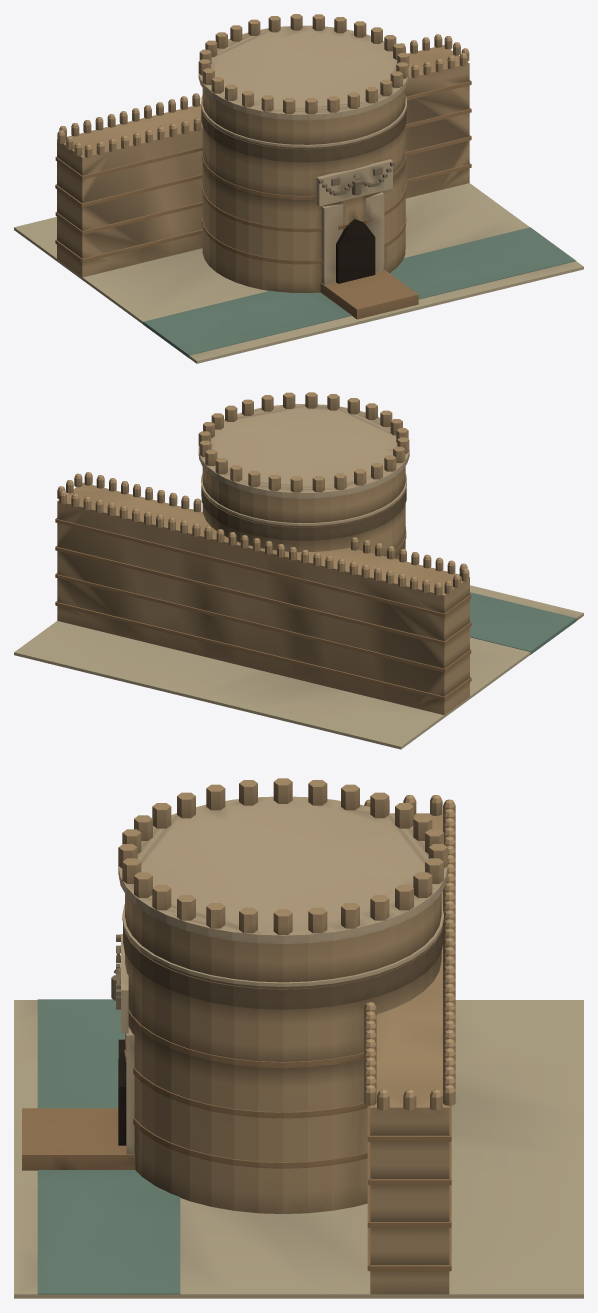
The model's file is talisman-gate.glb.
3 views of the same model, one above another, from view 1: azimuth 30°, elevation 25°; view 2: azimuth 150°, elevation 25°; view 3: azimuth 270°, elevation 25° (orthographic). The views are drawn at different scales.
Visible parts, largest first — view 1: p2_tower, p0_ground, p1_wall, p3_relief; view 2: p1_wall, p2_tower, p0_ground; view 3: p2_tower, p0_ground, p1_wall, p3_relief.
Boxes of the visible parts, box(x1,y1,x2,y2) form: p2_tower: box(198, 14, 409, 292); p0_ground: box(14, 183, 583, 363); p1_wall: box(55, 34, 471, 277); p3_relief: box(316, 159, 395, 206); p1_wall: box(55, 472, 471, 715); p2_tower: box(198, 392, 409, 559); p0_ground: box(14, 585, 583, 749); p2_tower: box(118, 778, 447, 1213); p0_ground: box(14, 999, 583, 1298); p1_wall: box(364, 795, 455, 1294); p3_relief: box(111, 934, 128, 1033).
Bounding box in the file's own units: 44.8 × 21.22 × 36.
